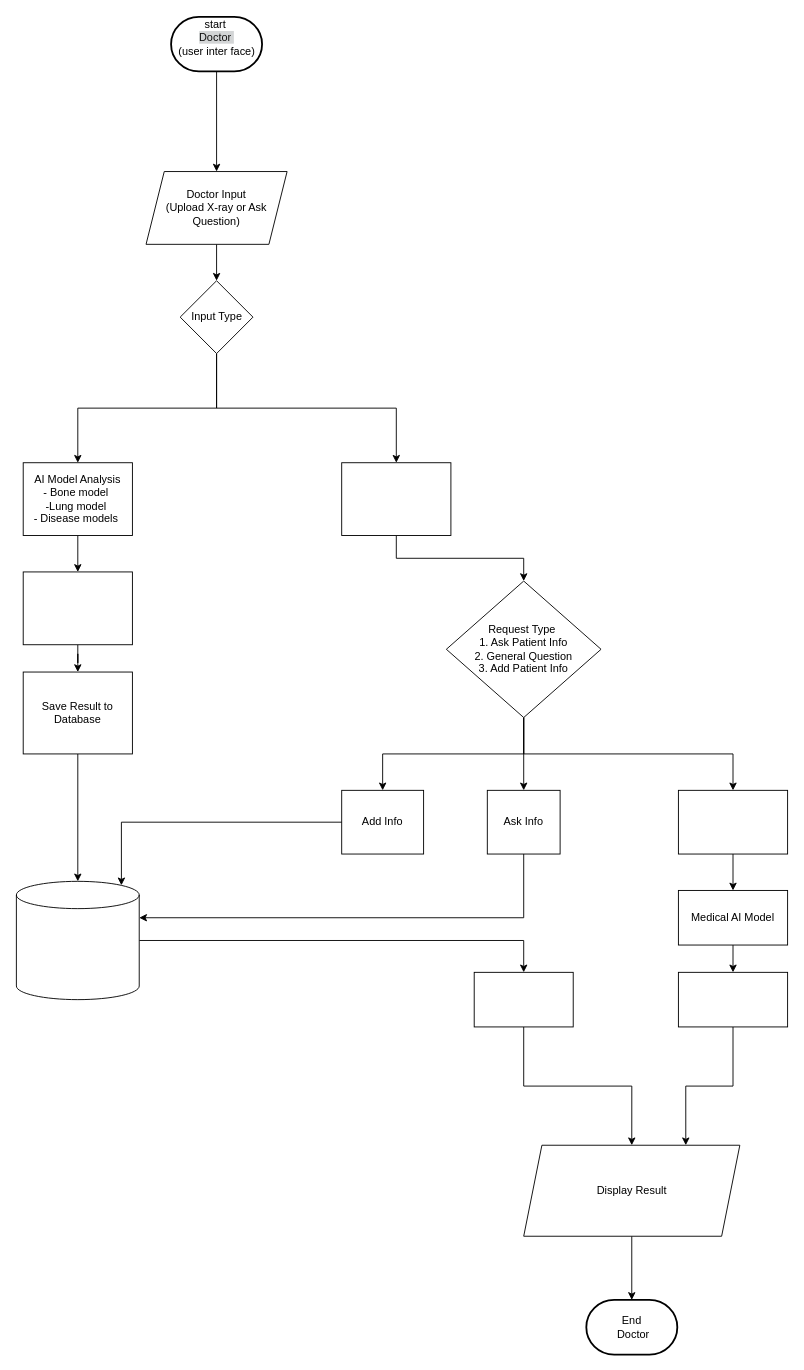
The diagram is 804 pixels wide and 1370 high, and some of its shapes have lost their labels. The shapes that lost their labels are listed below. From the top down, each one's centre as x and y in pixels, then its label:
At (396,499): "Chatbot Processing Question or user information".
At (77,608): "Generate Result".
At (732,821): "Question".
At (77,940): "Medical Database".
At (523,999): "Prepare Response".
At (732,999): "Generate Answer".
